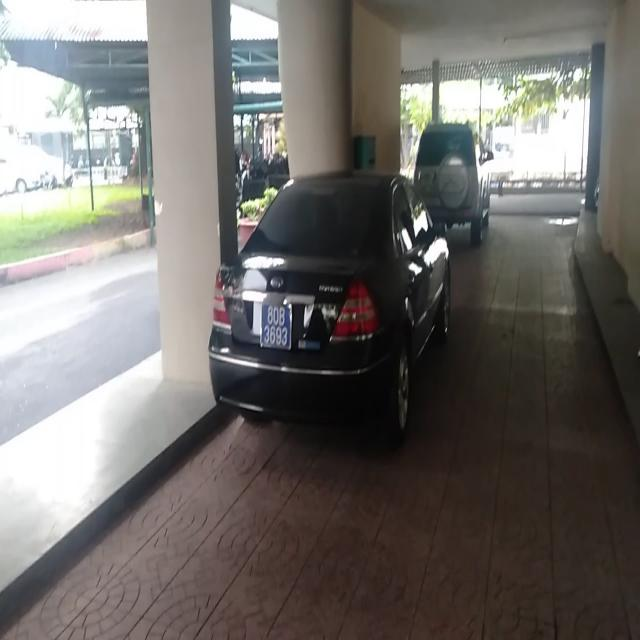bien_xanh: (258, 300, 293, 350)
